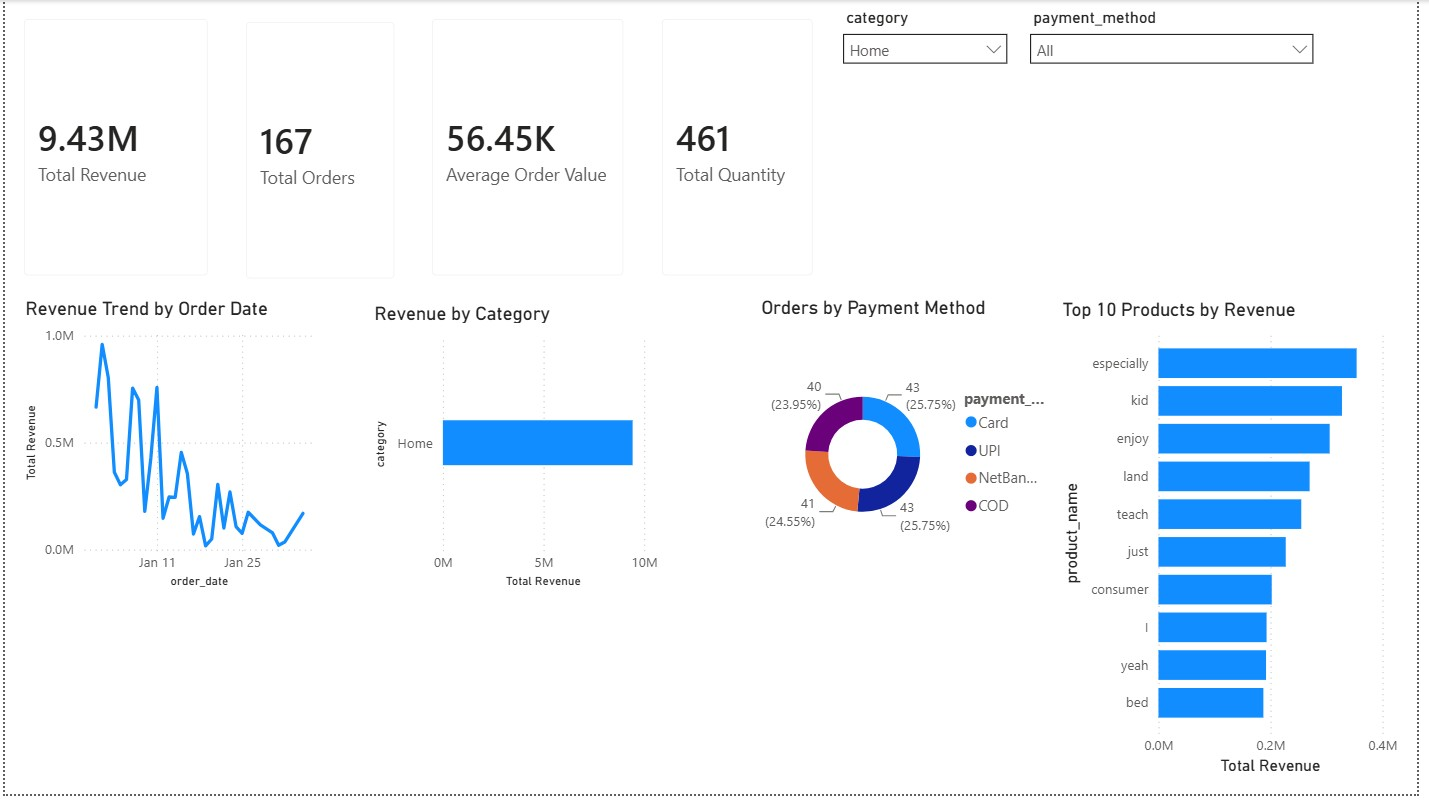

The dashboard page shown, as its layout file describes it:
{"tool":"powerbi","page":{"name":"Executive Overview","canvas":[1280,720],"ordinal":0},"visuals":[{"type":"cardVisual","fields":{"Data":["ecommerce_dw dim_customers.Total_Revenue"]},"box":[0,0,201.1,267.3],"z":0},{"type":"cardVisual","fields":{"Data":["ecommerce_dw dim_customers.Total_Orders"]},"box":[201.1,2.5,169.2,267.3],"z":1000},{"type":"cardVisual","fields":{"Data":["ecommerce_dw dim_customers.Average_Order_Value"]},"box":[370.3,0,208.4,267.3],"z":2000},{"type":"cardVisual","fields":{"Data":["ecommerce_dw dim_customers.Total_Quantity"]},"box":[578.7,0,171.6,267.3],"z":3000},{"type":"lineChart","title":"Revenue Trend by Order Date","fields":{"Y":["ecommerce_dw dim_customers.Total_Revenue"],"Category":["ecommerce_dw fact_orders.order_date"]},"box":[13.6,269.5,278.6,268],"z":4000},{"type":"clusteredBarChart","title":"Revenue by Category","fields":{"Y":["ecommerce_dw dim_customers.Total_Revenue"],"Category":["ecommerce_dw dim_products.category"]},"box":[330.1,274.1,266.5,263.5],"z":5000},{"type":"donutChart","title":"Orders by Payment Method","fields":{"Category":["ecommerce_dw fact_orders.payment_method"],"Y":["ecommerce_dw dim_customers.Total_Orders"]},"box":[681.4,268,272.6,268],"z":6000},{"type":"clusteredBarChart","title":"Top 10 Products by Revenue","fields":{"Category":["ecommerce_dw dim_products.product_name"],"Y":["ecommerce_dw dim_customers.Total_Revenue"]},"box":[954.2,270.4,314.2,436.7],"z":6001},{"type":"slicer","fields":{"Values":["ecommerce_dw dim_products.category"]},"box":[750.3,2.5,169.2,210.9],"z":6002},{"type":"slicer","fields":{"Values":["ecommerce_dw fact_orders.payment_method"]},"box":[919.5,2.5,277.1,191.3],"z":6003}]}

Visuals, with their boxes in screenshot pixels (x1, y1, x2, y2), scaled from the page's 1280x720 canvas onto the 1429x800 screenshot:
cardVisual - ecommerce_dw dim_customers.Total_Revenue: [0,0,225,297]
cardVisual - ecommerce_dw dim_customers.Total_Orders: [225,3,413,300]
cardVisual - ecommerce_dw dim_customers.Average_Order_Value: [413,0,646,297]
cardVisual - ecommerce_dw dim_customers.Total_Quantity: [646,0,838,297]
"Revenue Trend by Order Date" lineChart: [15,299,326,597]
"Revenue by Category" clusteredBarChart: [369,305,666,597]
"Orders by Payment Method" donutChart: [761,298,1065,596]
"Top 10 Products by Revenue" clusteredBarChart: [1065,300,1416,786]
slicer - ecommerce_dw dim_products.category: [838,3,1027,237]
slicer - ecommerce_dw fact_orders.payment_method: [1027,3,1336,215]
